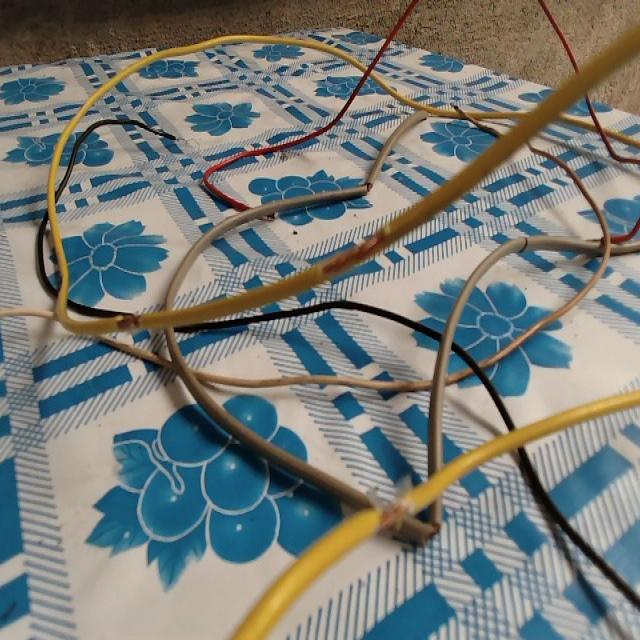-: (320, 225, 388, 278), (372, 496, 415, 531), (109, 311, 146, 337), (169, 129, 198, 155), (447, 95, 462, 116), (360, 177, 373, 199)
